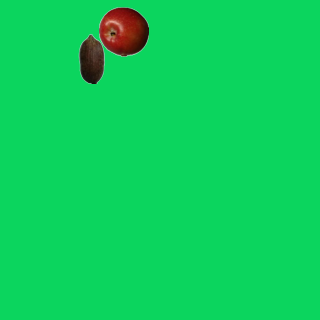Apple Braeburn: (98, 6, 148, 56)
Nut Pecan: (66, 33, 116, 83)
